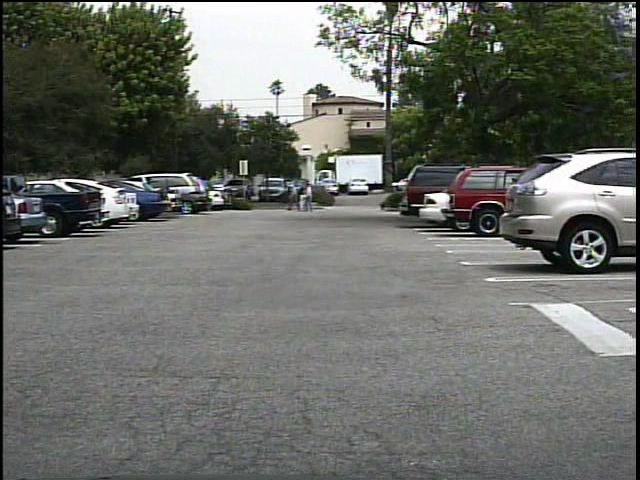person: (301, 183, 320, 214), (286, 185, 302, 214), (297, 184, 310, 216)
